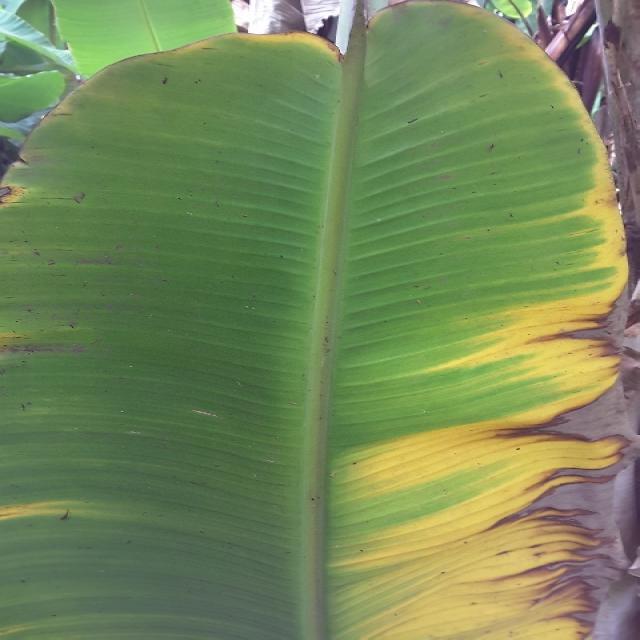Cordana: (0, 10, 631, 640)
